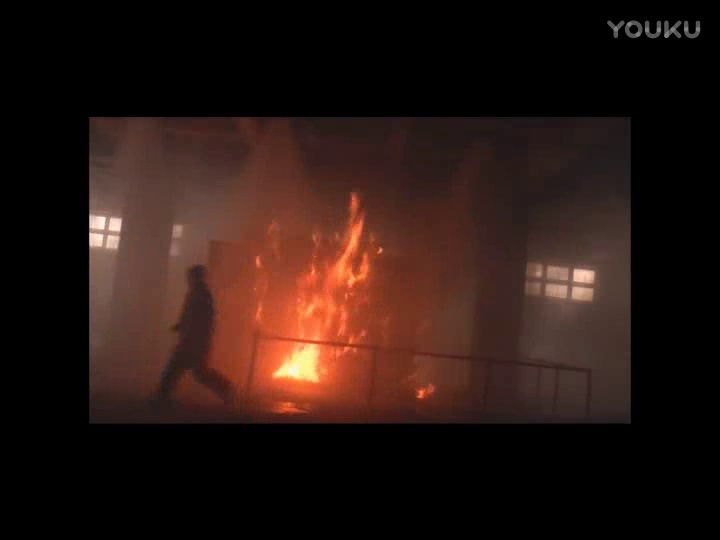fire: (287, 184, 382, 341), (274, 334, 323, 382)
